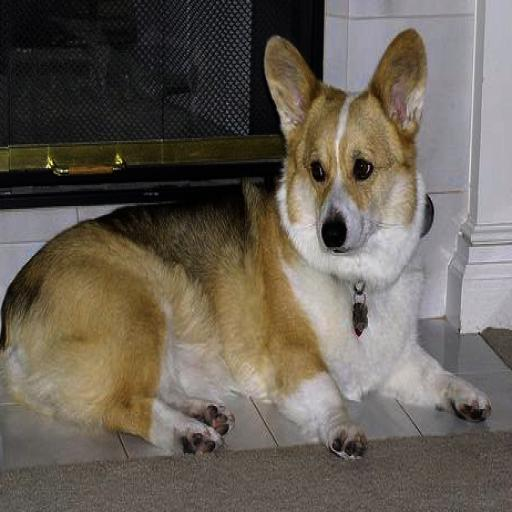dog_face: (246, 34, 451, 261)
